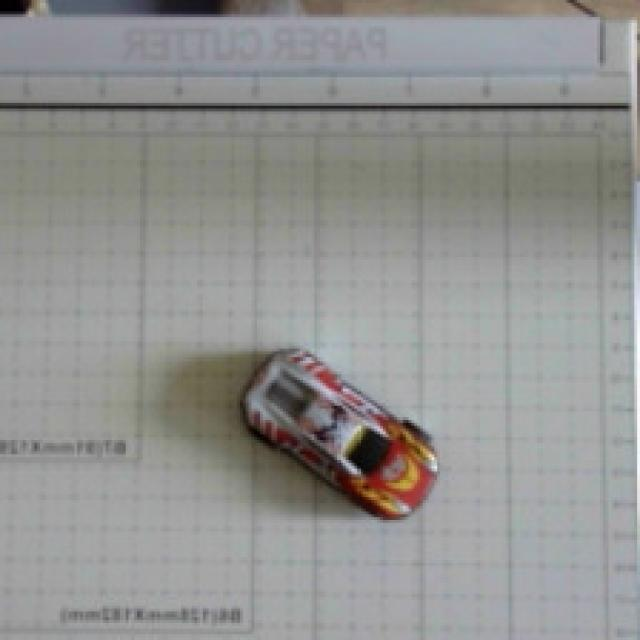Red Car: (217, 299, 480, 559)
